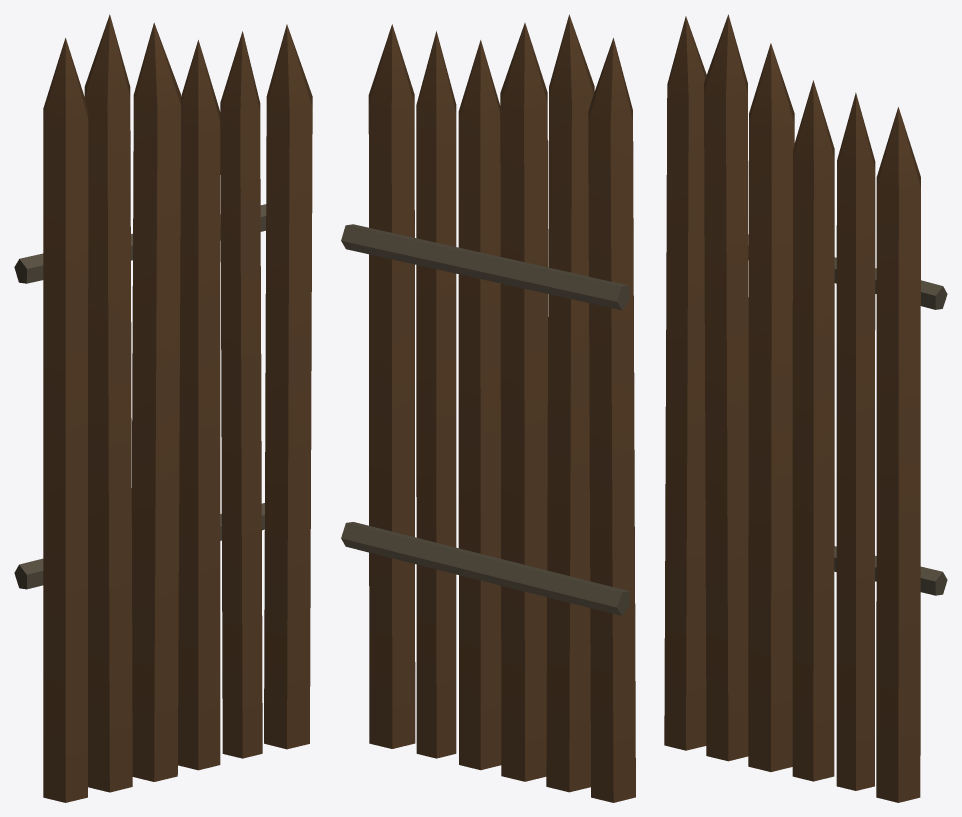
The model's file is Palisade.fbx.
3 views of the same model, side by side, from view 1: azimuth 30°, elevation 25°; view 2: azimuth 150°, elevation 25°; view 3: azimuth 330°, elevation 25° (orthographic). The views are drawn at different scales.
Visible parts, largest first — view 1: Palisade; view 2: Palisade; view 3: Palisade.
Boxes of the visible parts, <box> form: Palisade: <box>14,14,312,802</box>; Palisade: <box>341,14,635,802</box>; Palisade: <box>664,14,947,802</box>.
Size of the model in its own units: 1.04 by 2.76 by 0.2399.
